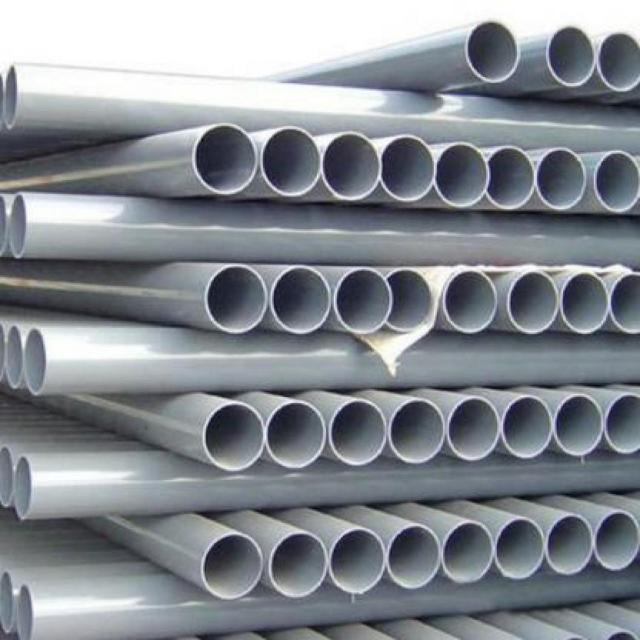pipe: (192, 123, 259, 196), (204, 263, 269, 334), (260, 125, 323, 196), (270, 265, 333, 335), (203, 402, 266, 472), (321, 133, 383, 202), (266, 401, 326, 469), (201, 534, 263, 599), (268, 531, 328, 598), (329, 398, 387, 466), (334, 267, 392, 334), (380, 135, 437, 203), (388, 399, 446, 464), (434, 142, 491, 207), (330, 528, 387, 593), (446, 395, 500, 462), (465, 20, 521, 83), (443, 269, 497, 334), (387, 525, 441, 590), (507, 270, 560, 335), (502, 394, 555, 459), (441, 522, 495, 584), (485, 145, 535, 210), (536, 147, 587, 210), (559, 272, 610, 335), (553, 393, 604, 456), (495, 518, 546, 580), (546, 26, 596, 89), (385, 268, 433, 333), (592, 149, 639, 214), (545, 515, 595, 575), (592, 509, 639, 571), (597, 32, 639, 94), (603, 392, 640, 454), (609, 272, 639, 334), (25, 328, 47, 396), (9, 193, 28, 258), (14, 455, 33, 520), (6, 325, 23, 390), (15, 584, 34, 639), (0, 445, 16, 510), (4, 64, 18, 129), (0, 571, 12, 632)
